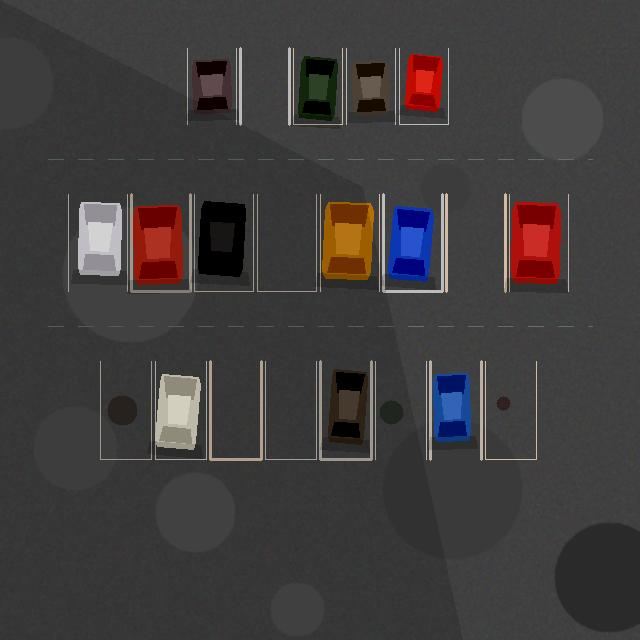space-empty: (257, 194, 316, 291), (446, 194, 505, 291), (100, 361, 151, 459), (210, 361, 261, 459), (265, 361, 316, 459), (375, 361, 426, 459), (485, 361, 536, 459), (240, 48, 289, 124)
space-occupied: (68, 194, 127, 291), (131, 194, 190, 291), (194, 194, 253, 291), (320, 194, 379, 291), (383, 194, 442, 291), (509, 194, 568, 291), (155, 361, 206, 459), (320, 361, 371, 459), (430, 361, 481, 459), (187, 48, 236, 124), (293, 48, 342, 124), (346, 48, 395, 124), (399, 48, 448, 124)
